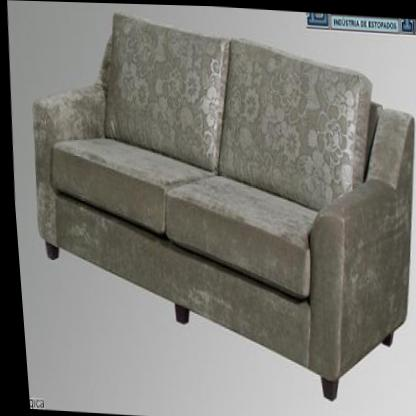Sofa: (17, 3, 416, 405)
